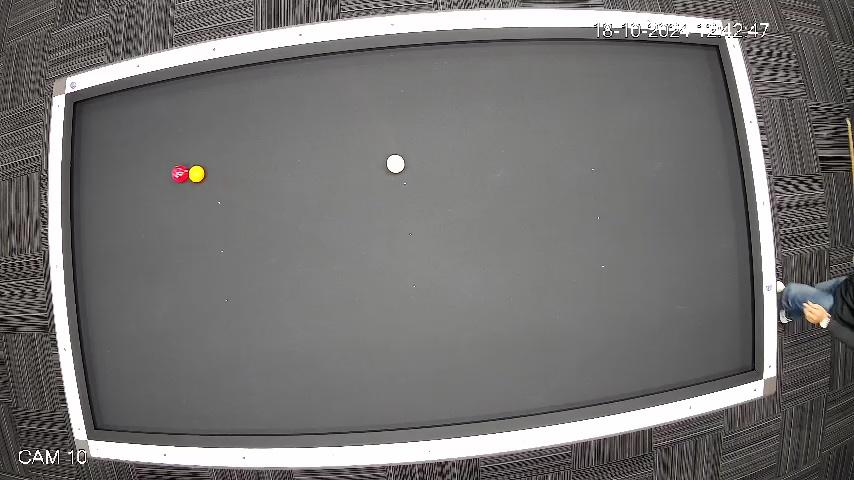Red: (171, 165, 188, 183)
White: (386, 153, 406, 174)
Yellow: (189, 164, 205, 184)
